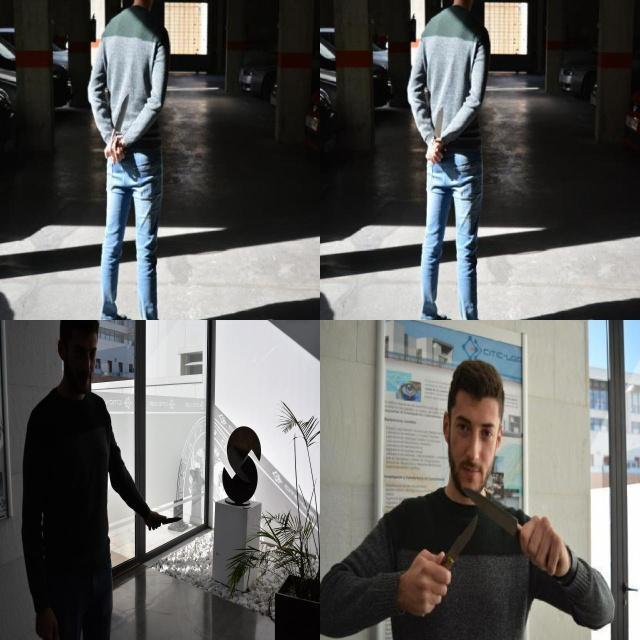-: (459, 483, 523, 544), (436, 511, 478, 575), (106, 90, 130, 156), (430, 102, 445, 149), (154, 513, 183, 528)
